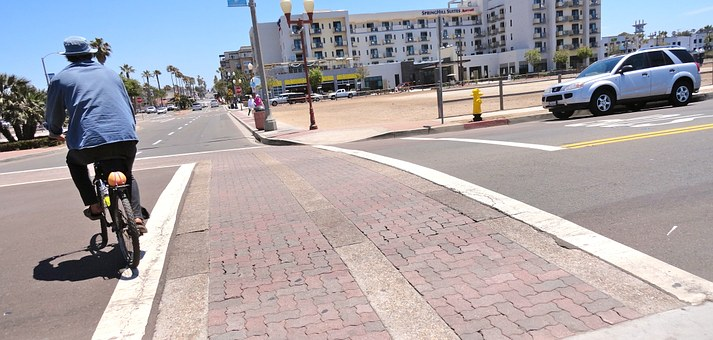bikerider: (42, 31, 159, 287)
